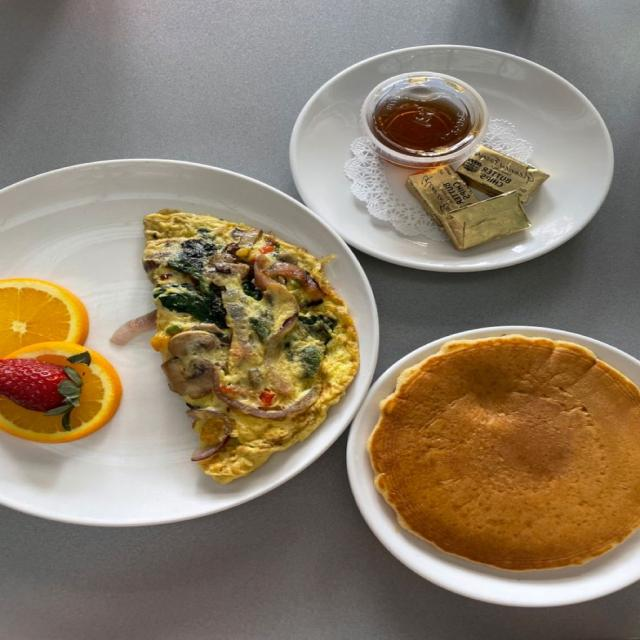Omelette: (134, 198, 362, 497)
Pancakes: (356, 323, 639, 572)
